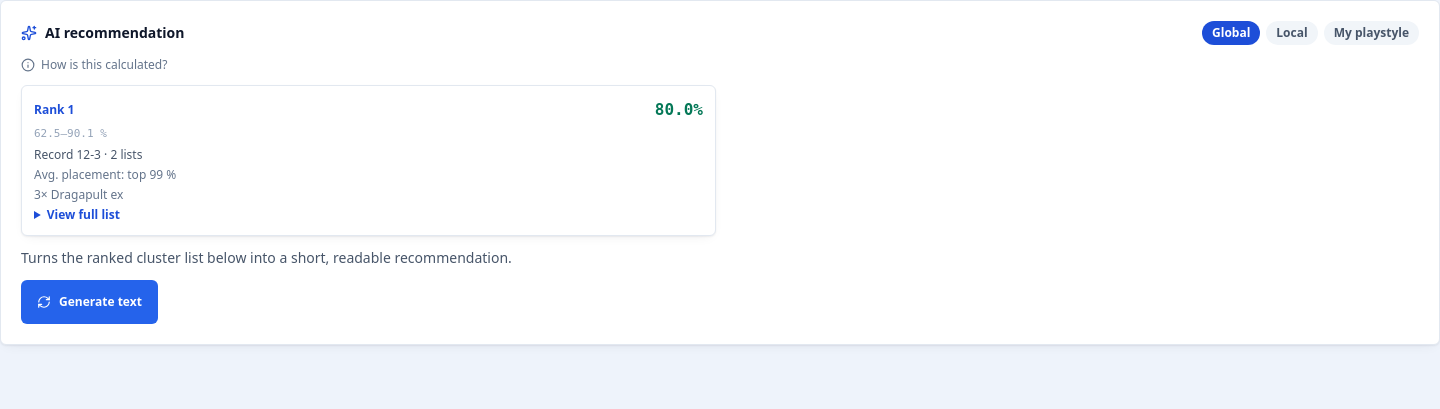
Test: ArchetypeRecommendationPanel — generation › shows an error line while keeping the generate button usable
Click the button with test id "archetype-recommendation-generate-button" at (89, 302), box [21,280,158,324]
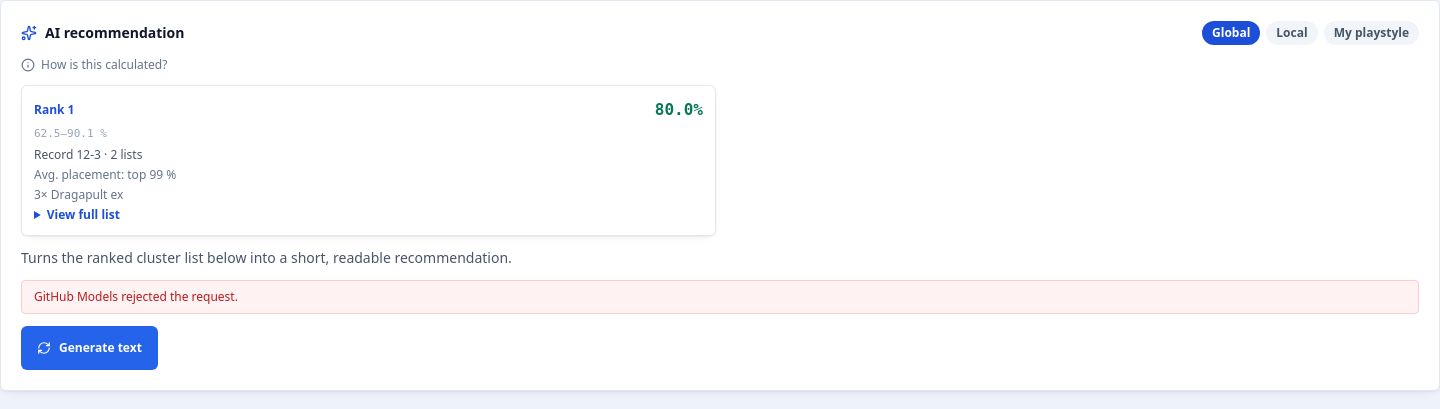
Expected: the button with test id "archetype-recommendation-generate-button" is enabled, [21,326,158,370]
Expected: the text with test id "archetype-recommendation-error" reads "GitHub Models rejected the request.", [34,288,238,304]
